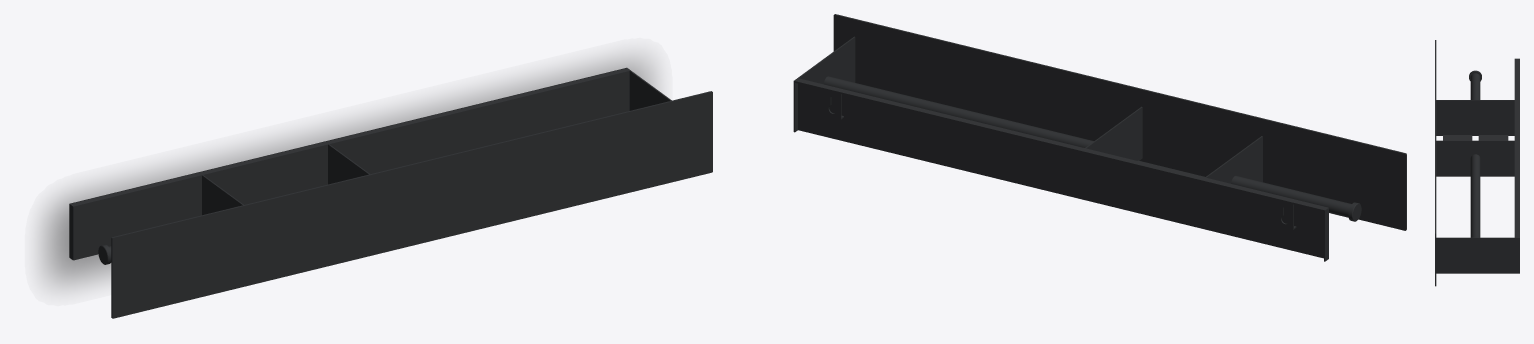
Rendered from skyline-trio.2d76edaf5b.ar.glb.
The picture shows the model from 3 angles, left to right: view 1: azimuth 30°, elevation 25°; view 2: azimuth 150°, elevation 25°; view 3: azimuth 270°, elevation 25°; orthographic projection. The views are drawn at different scales.
Visible parts, largest first — view 1: NAUO1, object 2; view 2: NAUO1; view 3: NAUO1.
Boxes of the visible parts, x1,y1,x2,y2 form: NAUO1: (69,67,712,318); object 2: (41,57,655,286); NAUO1: (793,14,1406,261); NAUO1: (1435,40,1519,286).
Bounding box in the file's own units: 0.78 × 0.17 × 0.13.
2 materials, 1 textured.
